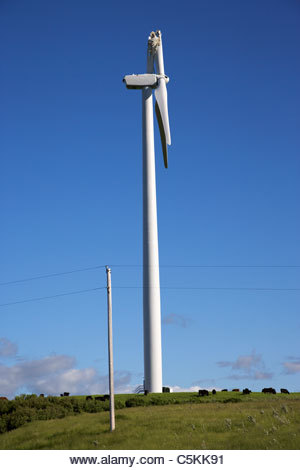faulty: (116, 25, 188, 262)
